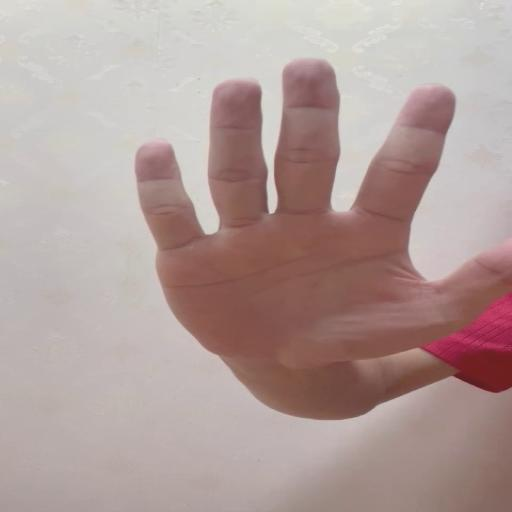open_palm: (134, 55, 508, 362)
